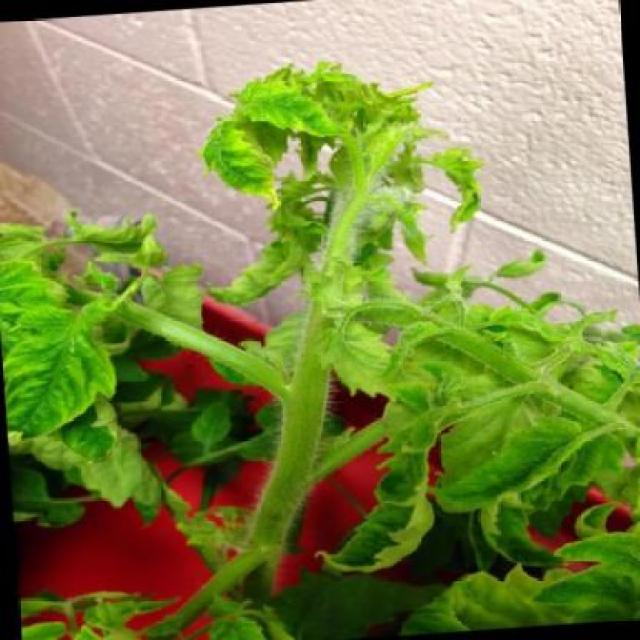Healthy Leaf: (310, 407, 455, 587), (432, 407, 610, 522), (190, 114, 295, 228), (238, 61, 354, 156), (317, 305, 426, 403)
